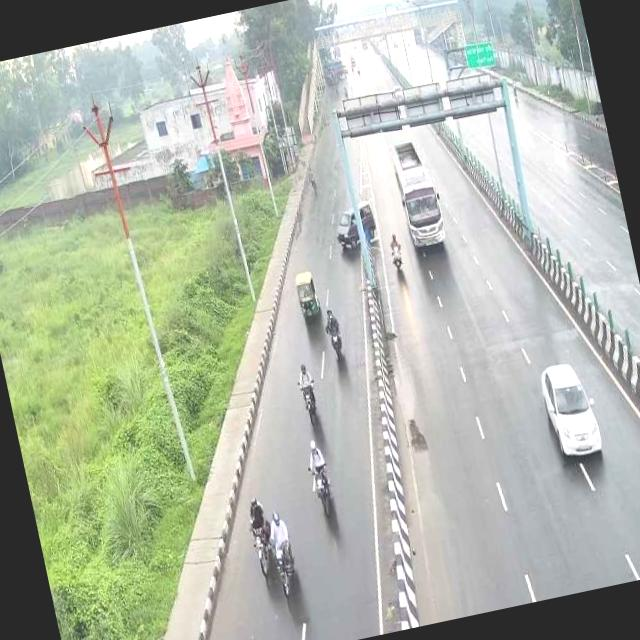car: (530, 350, 610, 471), (327, 195, 384, 256)
